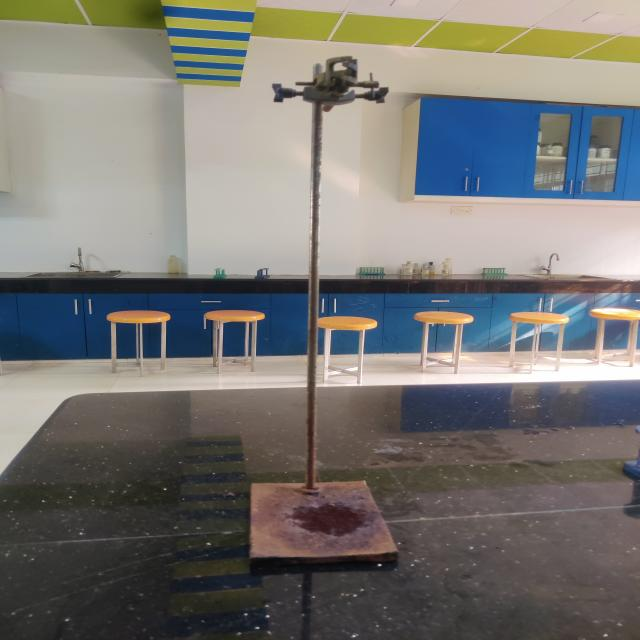Burette_Stands: (224, 43, 434, 605)
